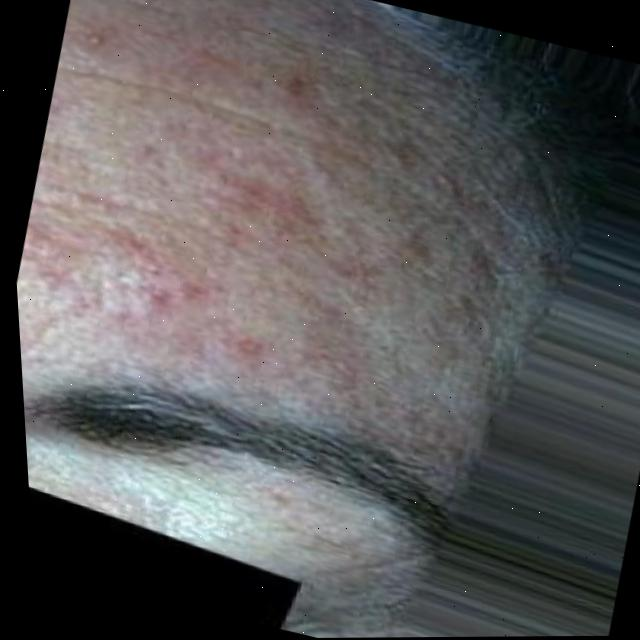Rosacea: (3, 43, 330, 382)
